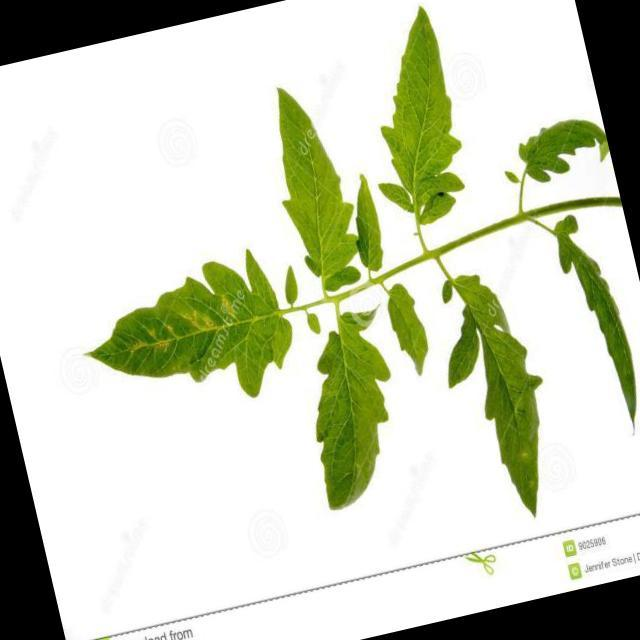Healthy Leaf: (69, 228, 314, 458), (416, 243, 580, 544), (261, 285, 440, 553), (326, 0, 492, 252), (250, 44, 381, 310)
